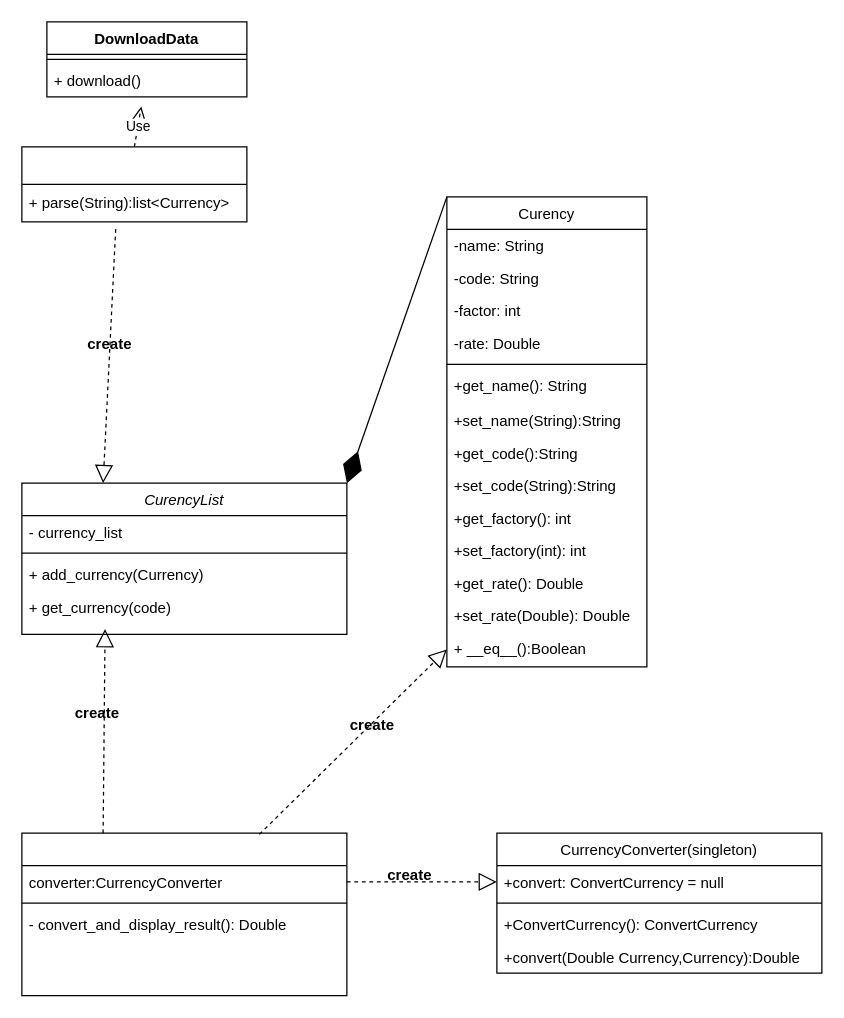
Image size: 844x1018. Some labels were removed from this diagram. Here are the shapes that lost their labels. From the top down, the box of each, then its label:
(21, 146, 247, 222): Parser
(21, 832, 347, 996): User Interface
